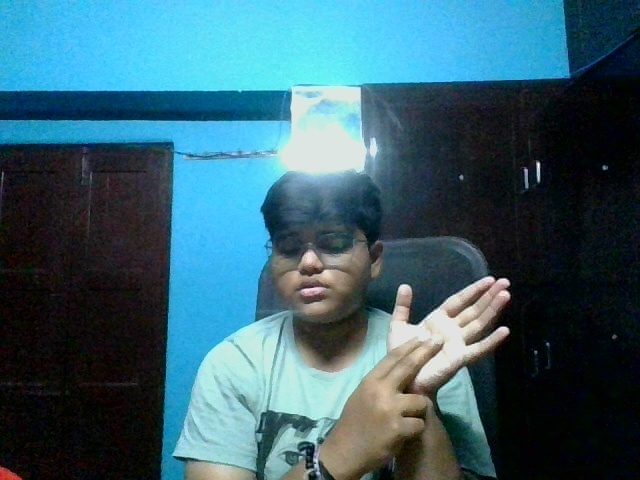N: (374, 274, 516, 463)
